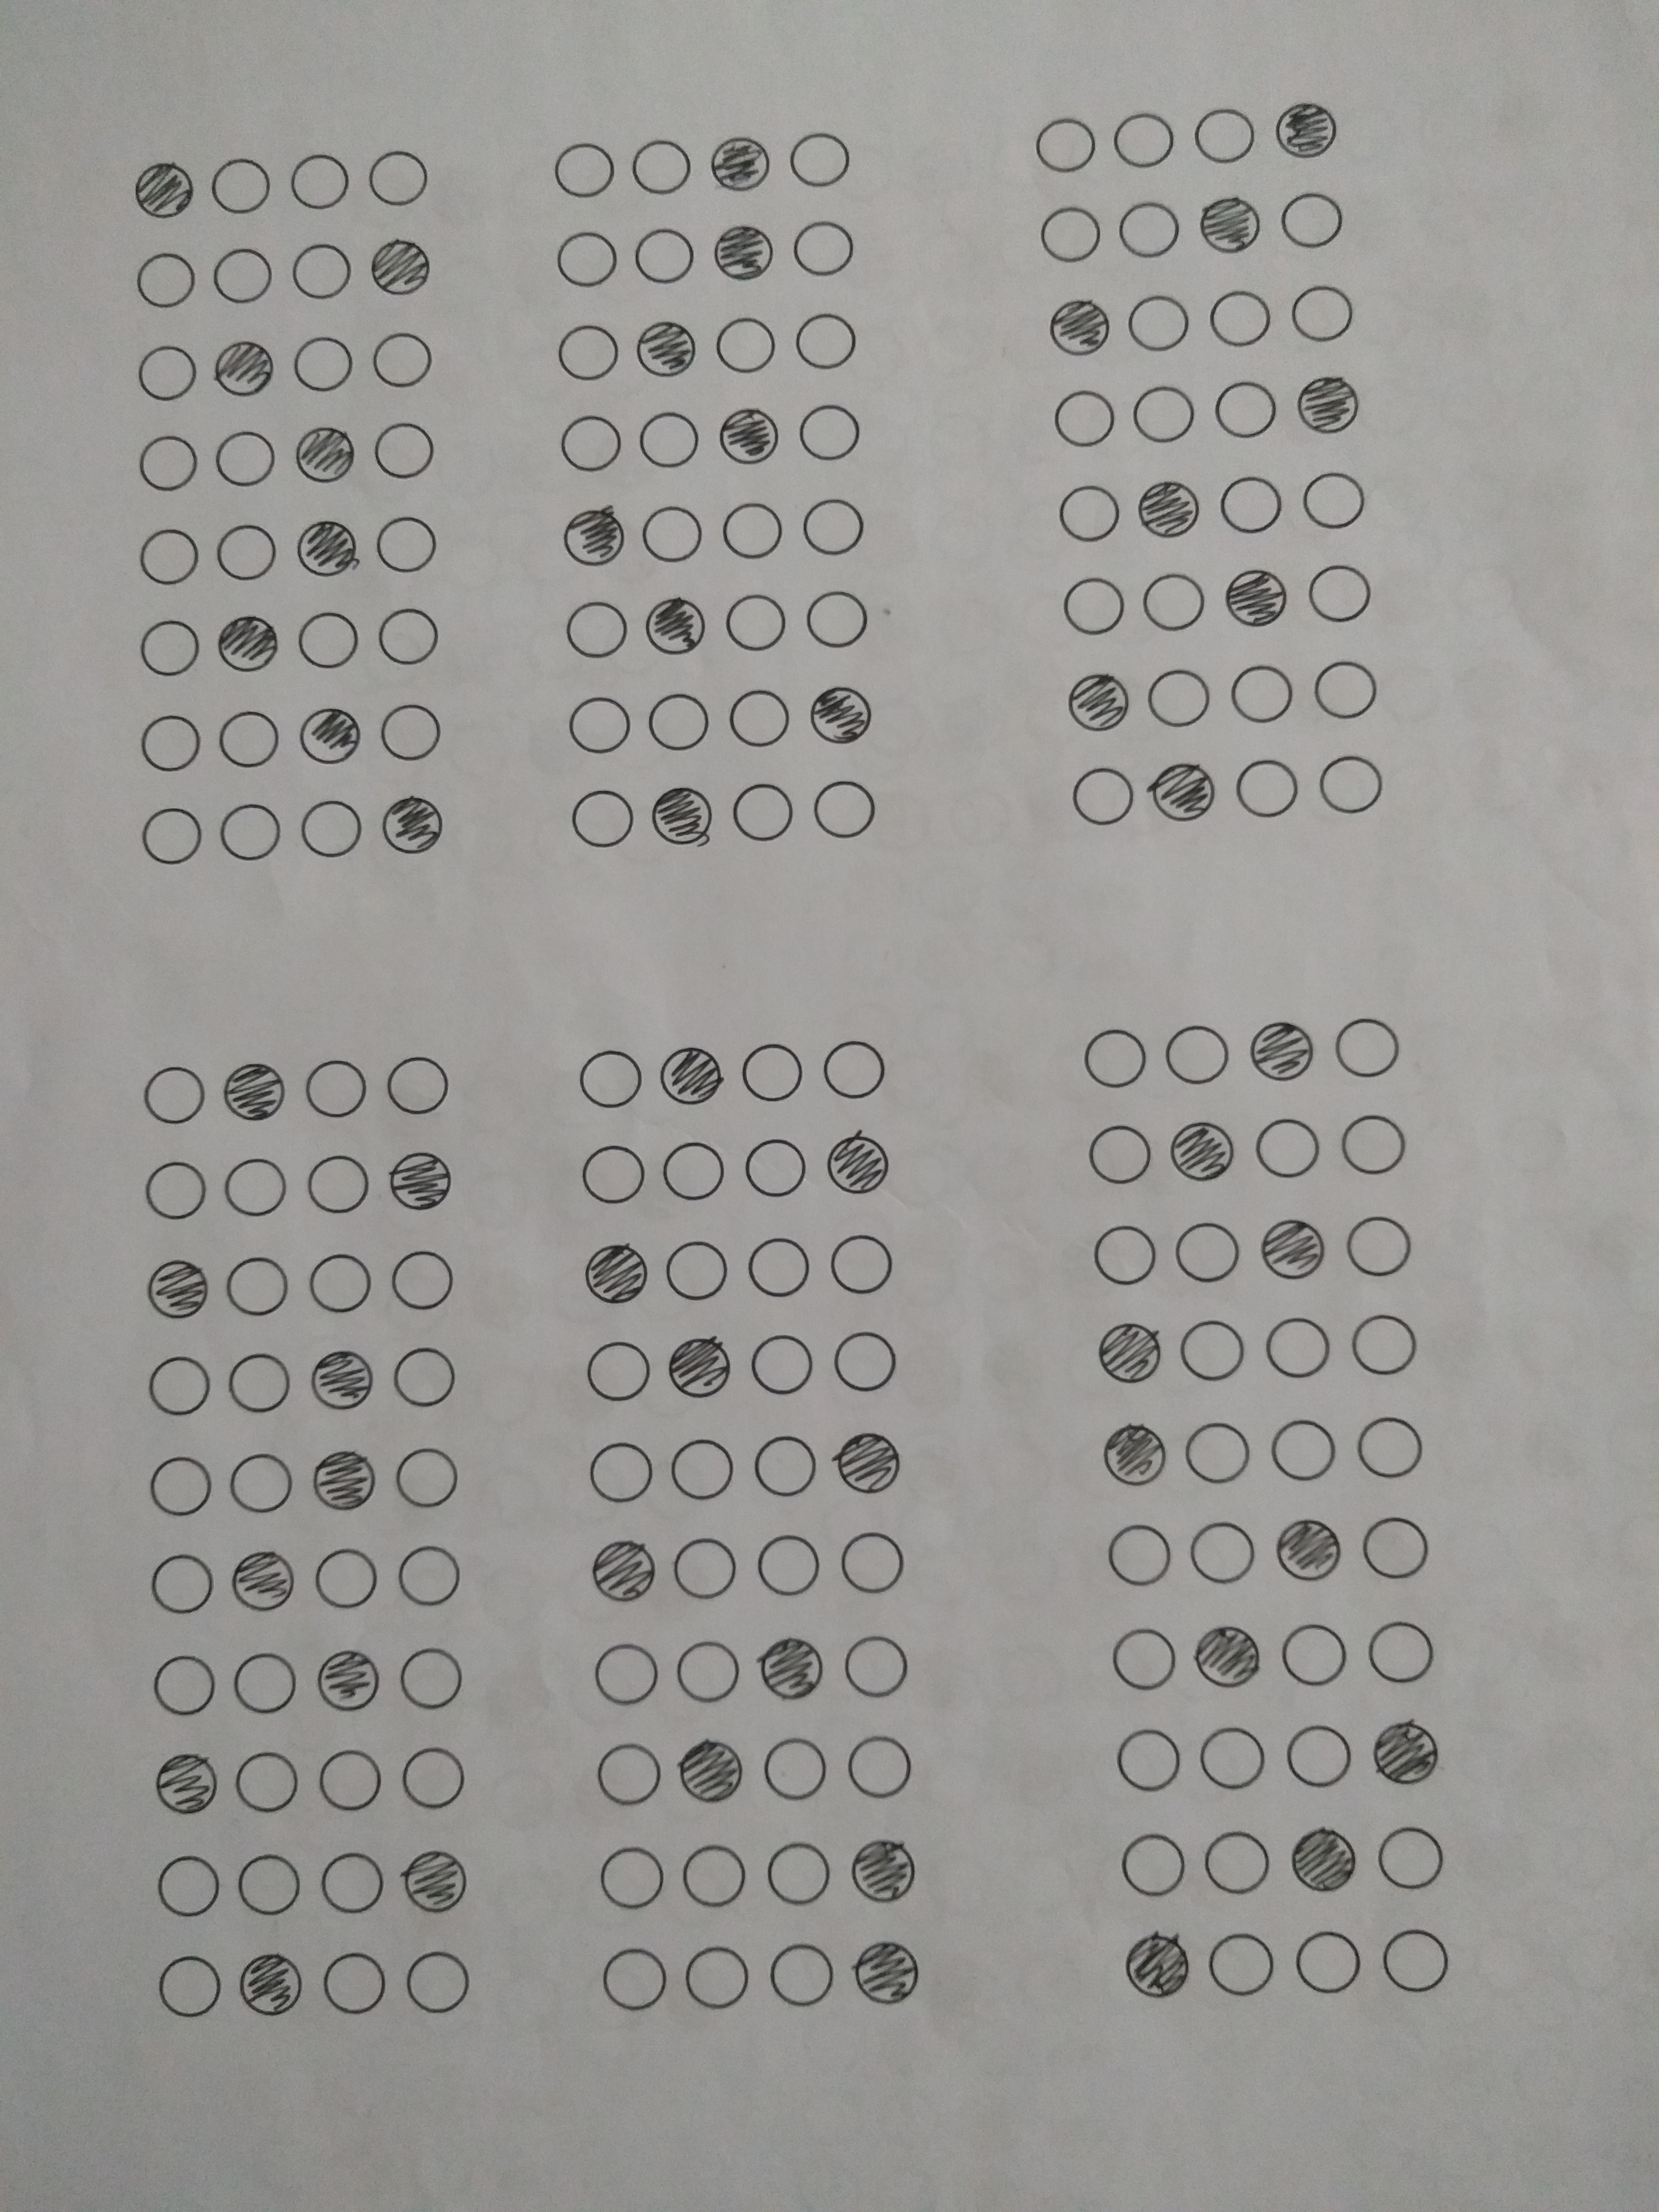not-c: (1354, 1604, 1452, 1696), (835, 1622, 918, 1719), (673, 1829, 758, 1921), (1192, 1817, 1277, 1909), (1175, 101, 1269, 185), (1255, 1407, 1349, 1491), (1283, 460, 1373, 545), (1298, 554, 1387, 639), (587, 1933, 671, 2024), (760, 1937, 843, 2027), (777, 115, 861, 206), (1371, 1923, 1459, 2006), (828, 1728, 917, 1810), (1276, 1712, 1358, 1801), (659, 1522, 742, 1608), (368, 690, 450, 777), (1298, 653, 1385, 735), (305, 1848, 397, 1925), (829, 1521, 915, 1602), (624, 124, 706, 209), (1338, 1202, 1424, 1284), (810, 1029, 897, 1109), (1307, 751, 1394, 831), (716, 681, 805, 759), (1136, 557, 1211, 648), (223, 1242, 305, 1324), (138, 1440, 220, 1522), (1112, 1714, 1192, 1797), (390, 1637, 469, 1723), (704, 300, 789, 378), (791, 392, 870, 477), (1272, 181, 1351, 266), (1249, 1099, 1328, 1184), (282, 232, 355, 322), (376, 1047, 458, 1127), (148, 1946, 230, 2026), (594, 1737, 674, 1818), (798, 578, 880, 658), (129, 697, 213, 775), (742, 1426, 826, 1505), (680, 1935, 755, 2022), (1323, 1012, 1403, 1092), (301, 1541, 383, 1620), (136, 1646, 218, 1724), (1345, 1306, 1427, 1385), (744, 1527, 828, 1604), (554, 688, 638, 765), (1373, 1817, 1457, 1893), (763, 1834, 838, 1919), (631, 500, 716, 575), (1101, 1625, 1187, 1700), (584, 1841, 671, 1914), (207, 789, 286, 869), (652, 1136, 732, 1214), (591, 1639, 669, 1719), (1206, 373, 1286, 451), (1223, 749, 1302, 829), (389, 1543, 471, 1620), (551, 404, 633, 481), (1354, 1413, 1436, 1489), (652, 1230, 735, 1305), (730, 775, 805, 859), (1115, 293, 1201, 366), (1079, 1012, 1147, 1103), (362, 136, 441, 214), (671, 1632, 749, 1710), (298, 1146, 378, 1223), (396, 1745, 476, 1822), (579, 1338, 655, 1418), (1173, 1209, 1249, 1289), (1197, 1719, 1277, 1796), (143, 1052, 216, 1136), (542, 221, 626, 294), (1110, 190, 1183, 273), (125, 423, 211, 495), (1359, 1512, 1436, 1590), (221, 1846, 301, 1921), (817, 1230, 897, 1305), (1220, 657, 1295, 737), (1161, 1012, 1236, 1092), (1115, 1820, 1190, 1900), (131, 606, 213, 679), (403, 1942, 476, 2024), (565, 780, 647, 853), (138, 1547, 221, 1618), (1053, 570, 1136, 641), (1025, 200, 1110, 270), (1175, 1421, 1260, 1491), (1192, 1925, 1279, 1993), (223, 1745, 300, 1822), (795, 493, 873, 568), (225, 1444, 298, 1524), (310, 1747, 390, 1820), (1028, 101, 1101, 181), (380, 1249, 462, 1320), (1208, 277, 1279, 359), (788, 212, 864, 287), (1082, 1116, 1159, 1191), (1335, 1108, 1410, 1184), (211, 420, 284, 498), (629, 219, 708, 293), (371, 409, 443, 489), (1180, 1515, 1260, 1587), (129, 798, 211, 867), (1070, 756, 1140, 838), (1108, 98, 1176, 181), (1047, 383, 1124, 456), (561, 589, 633, 667), (1051, 479, 1129, 550), (1087, 1216, 1166, 1287), (568, 1141, 648, 1211), (1220, 463, 1286, 547), (141, 1153, 214, 1228), (739, 1327, 814, 1400), (547, 131, 622, 204), (1126, 383, 1199, 458), (138, 1355, 216, 1425), (211, 707, 291, 775), (232, 1644, 300, 1724), (122, 523, 207, 585), (756, 1733, 829, 1806), (125, 244, 200, 315), (223, 1153, 295, 1228), (314, 1946, 389, 2017), (791, 303, 866, 374), (1262, 1313, 1337, 1385), (1176, 1318, 1253, 1388), (538, 319, 627, 378), (298, 796, 371, 867), (742, 1228, 814, 1301), (584, 1435, 657, 1507), (307, 1249, 376, 1324), (633, 402, 702, 477), (643, 686, 718, 756), (810, 768, 880, 843), (1140, 667, 1215, 737), (1276, 1622, 1352, 1689), (305, 1050, 371, 1129), (1290, 272, 1356, 350), (392, 1440, 457, 1521), (211, 514, 282, 585), (831, 1324, 899, 1399), (1103, 1521, 1178, 1588), (371, 510, 437, 587), (1286, 1928, 1366, 1991), (286, 146, 359, 214), (577, 1043, 645, 1116), (666, 1433, 739, 1501), (132, 338, 204, 406), (720, 498, 788, 570), (734, 1040, 807, 1106), (148, 1848, 220, 1914), (209, 146, 277, 214), (288, 333, 355, 401), (295, 606, 362, 674), (390, 1345, 458, 1413), (721, 590, 789, 658), (364, 329, 434, 395), (375, 604, 444, 671), (741, 1134, 810, 1200), (225, 1350, 291, 1416), (209, 246, 274, 307)
taken-c: (1272, 1512, 1344, 1588), (1121, 1930, 1195, 2000), (1366, 1719, 1443, 1785), (758, 1632, 829, 1702), (1291, 1822, 1358, 1895), (648, 780, 716, 850), (854, 1937, 922, 2006), (850, 1839, 918, 1909), (308, 1446, 378, 1514), (235, 1951, 305, 2019), (1096, 1317, 1168, 1383), (1150, 756, 1218, 824), (1195, 1625, 1263, 1693), (387, 1148, 455, 1216), (1295, 371, 1364, 437), (314, 1644, 380, 1714), (155, 1750, 221, 1820), (1134, 474, 1202, 540), (230, 1545, 296, 1613), (591, 1536, 655, 1606), (657, 1045, 727, 1109), (807, 681, 873, 747), (836, 1428, 903, 1494), (308, 1346, 375, 1413), (403, 1844, 469, 1911), (1197, 192, 1265, 256), (1248, 1017, 1316, 1082), (666, 1332, 734, 1397), (1100, 1423, 1169, 1486), (824, 1132, 894, 1195), (631, 317, 697, 381), (1065, 669, 1131, 733), (1169, 1120, 1236, 1184), (680, 1738, 744, 1804), (221, 1057, 288, 1122), (1260, 1217, 1328, 1280), (380, 792, 444, 857), (295, 516, 361, 578), (584, 1242, 650, 1305), (559, 505, 627, 566), (146, 1259, 214, 1320), (1225, 566, 1290, 629), (1272, 98, 1338, 158), (295, 421, 357, 484), (709, 132, 772, 195), (1049, 294, 1112, 357), (213, 334, 277, 395), (296, 704, 361, 765), (711, 223, 775, 284), (211, 608, 277, 667), (647, 594, 708, 657), (718, 406, 781, 465), (368, 239, 434, 294), (134, 160, 197, 218)
